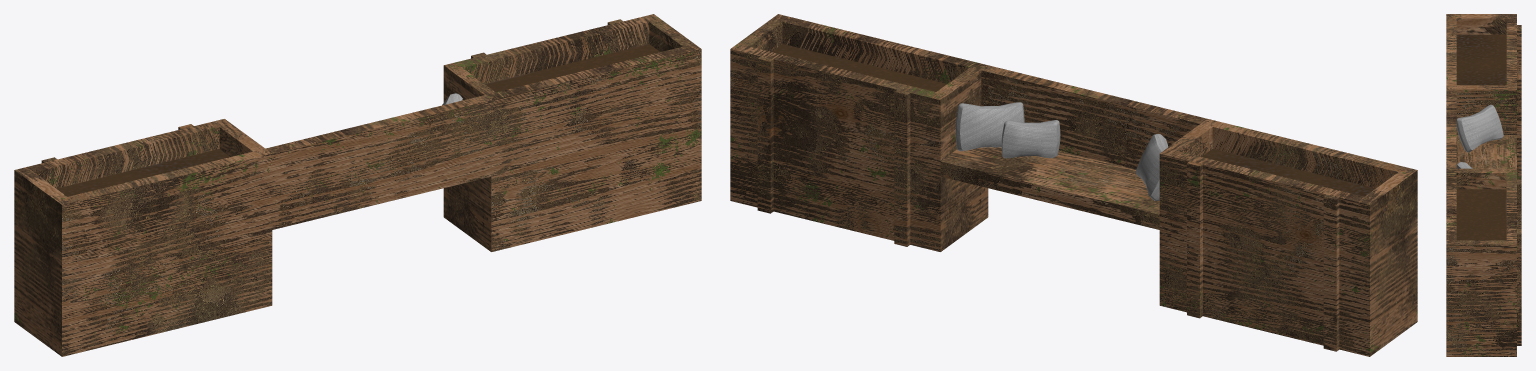
Rendered from m_benchWood.fbx.
The picture shows the model from 3 angles, left to right: view 1: azimuth 30°, elevation 25°; view 2: azimuth 150°, elevation 25°; view 3: azimuth 270°, elevation 25°; orthographic projection. The views are drawn at different scales.
Parts seen in each view (by area): view 1: pCube334; view 2: pCube334; view 3: pCube334.
Boxes of the visible parts, box(x1,y1,x2,y2) form: pCube334: box(14, 14, 701, 356); pCube334: box(730, 14, 1417, 356); pCube334: box(1446, 14, 1521, 356).
Size of the model in its own units: 1363 by 309 by 187.
